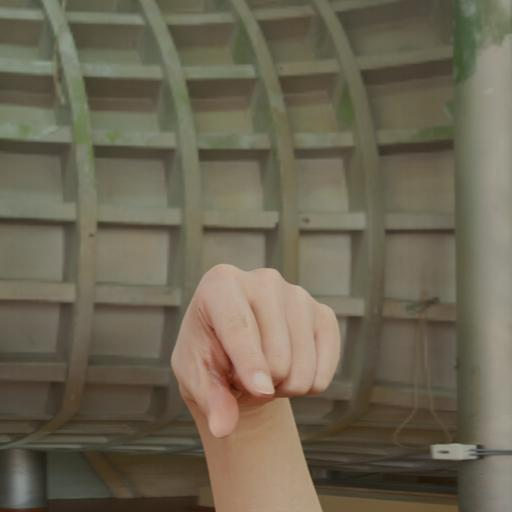Q: (160, 253, 353, 512)
